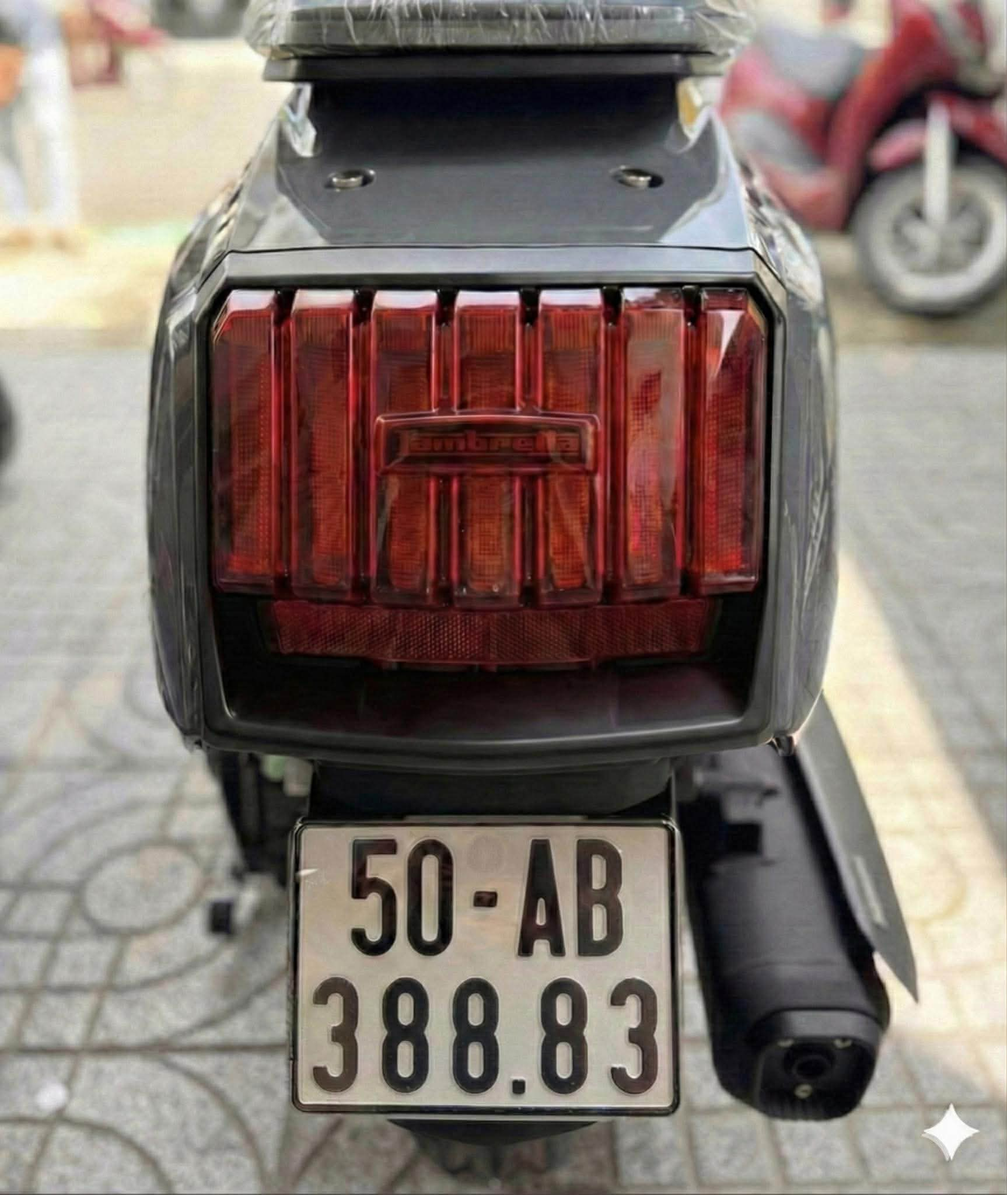bien_so: (277, 809, 695, 1132)
